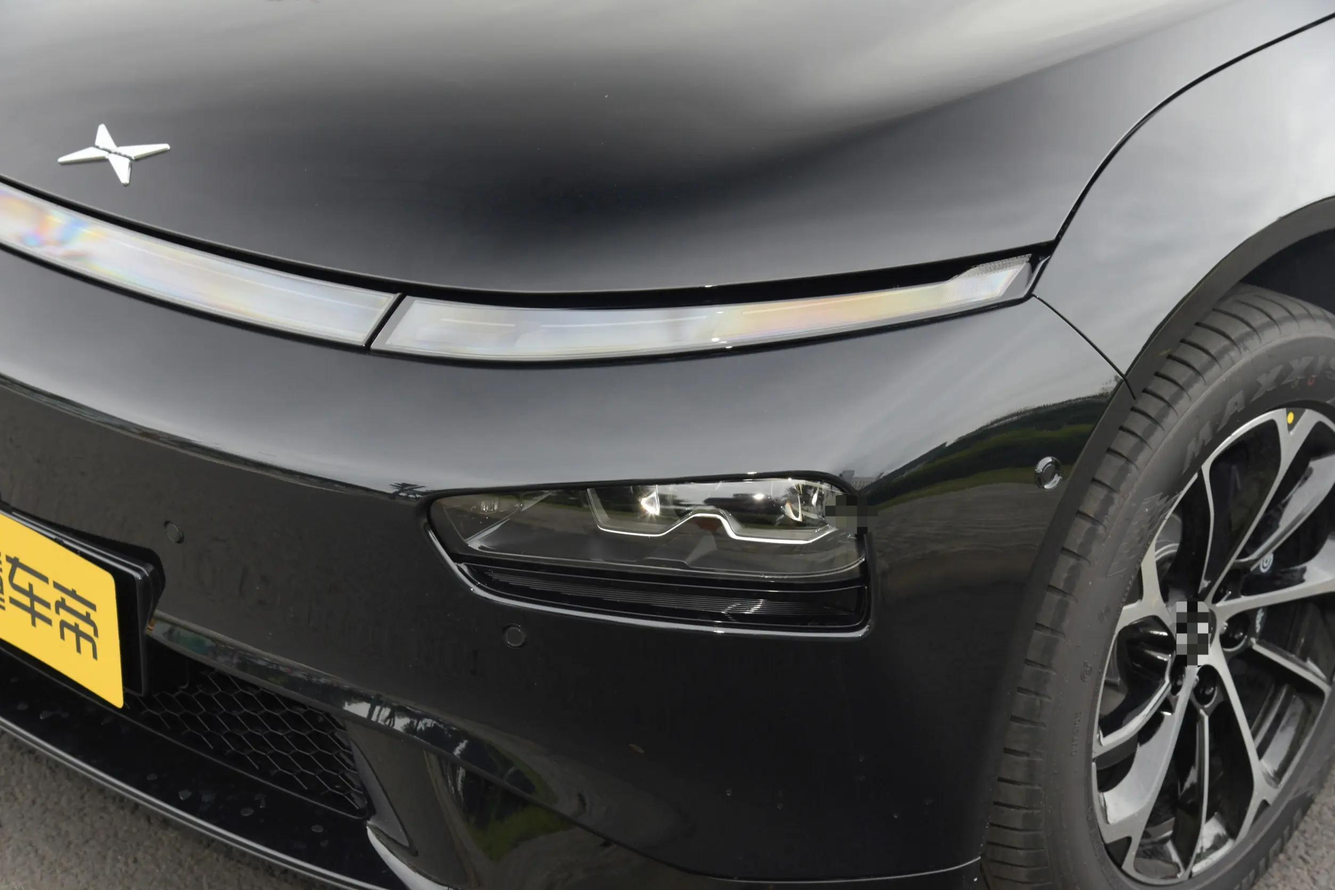XPeng Motors: (57, 122, 171, 186)
